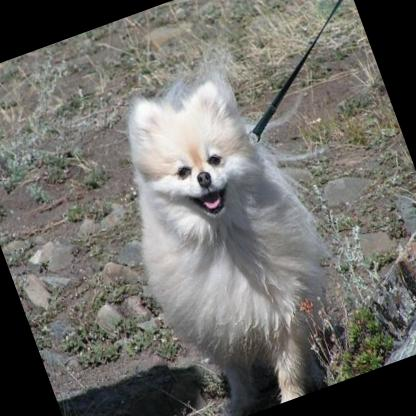Pomeranian: (86, 50, 369, 416)
